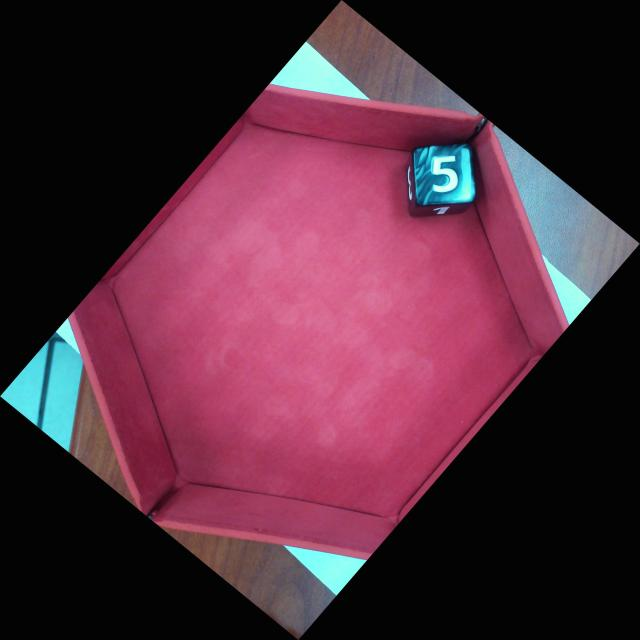dice: (413, 143, 478, 206)
